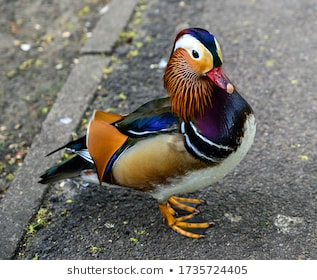duck: (45, 25, 272, 253)
